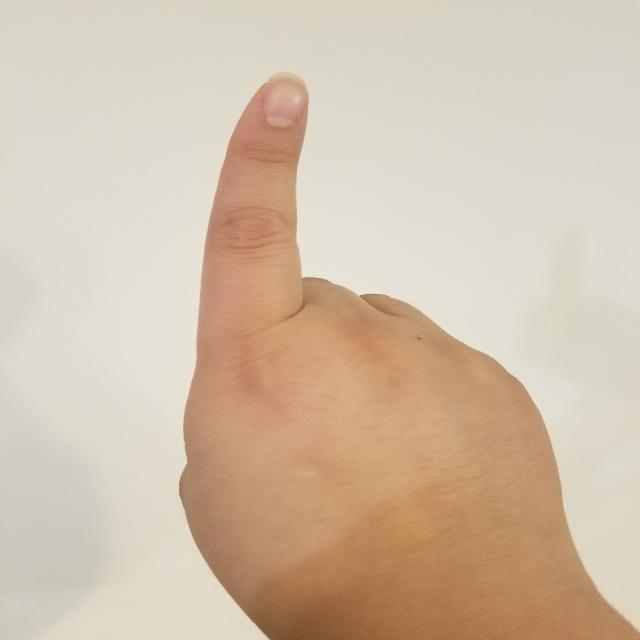D: (160, 64, 640, 639)
